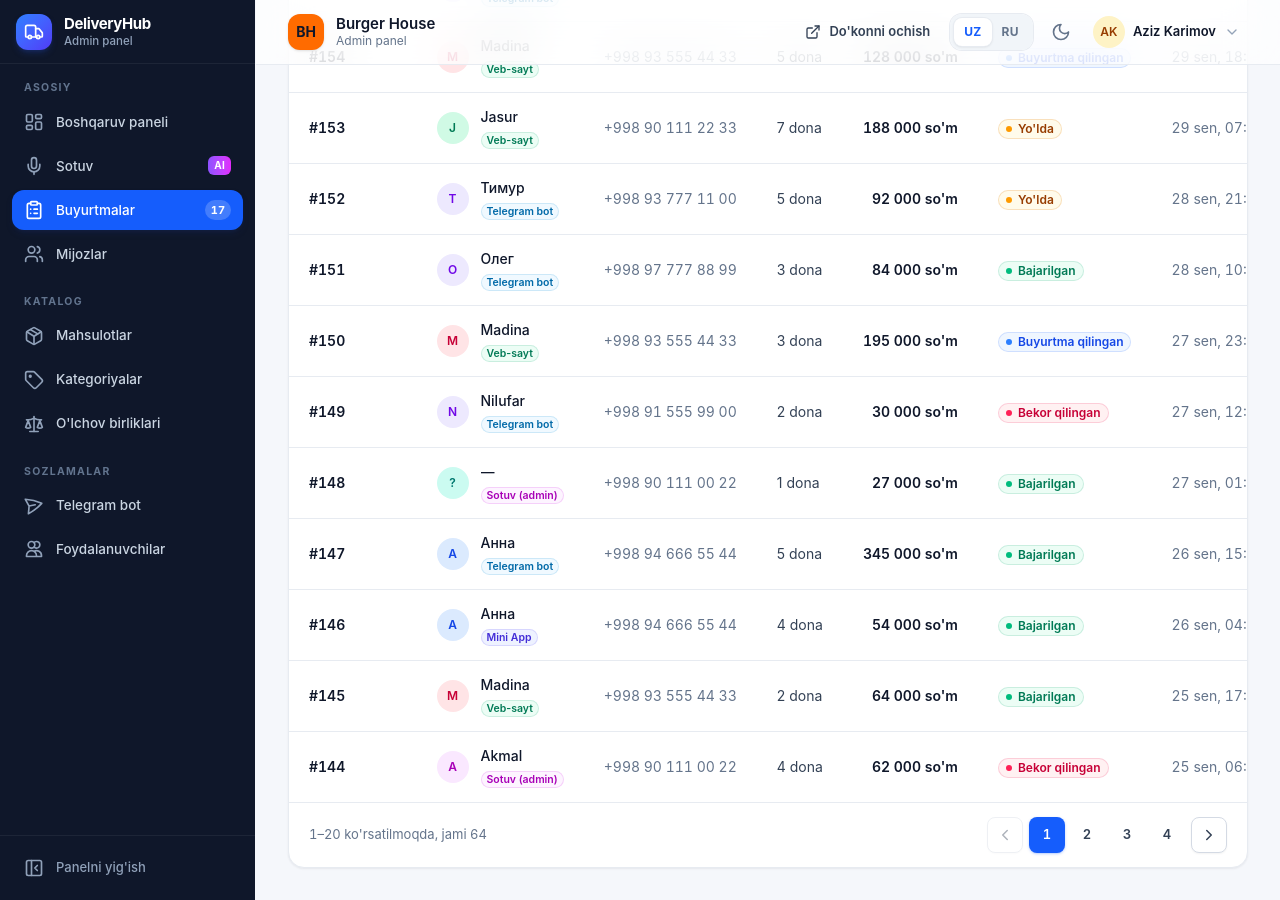
orders list › lists the newest orders with source badges and paginates
(page scrolled)
Expected: the text "1–20 ko'rsatilmoqda, jami 64" is shown, [309,825,487,845]
Step 1. Click the button named "Keyingi" → (1209, 835), box [1191,817,1227,853]
(page scrolled)
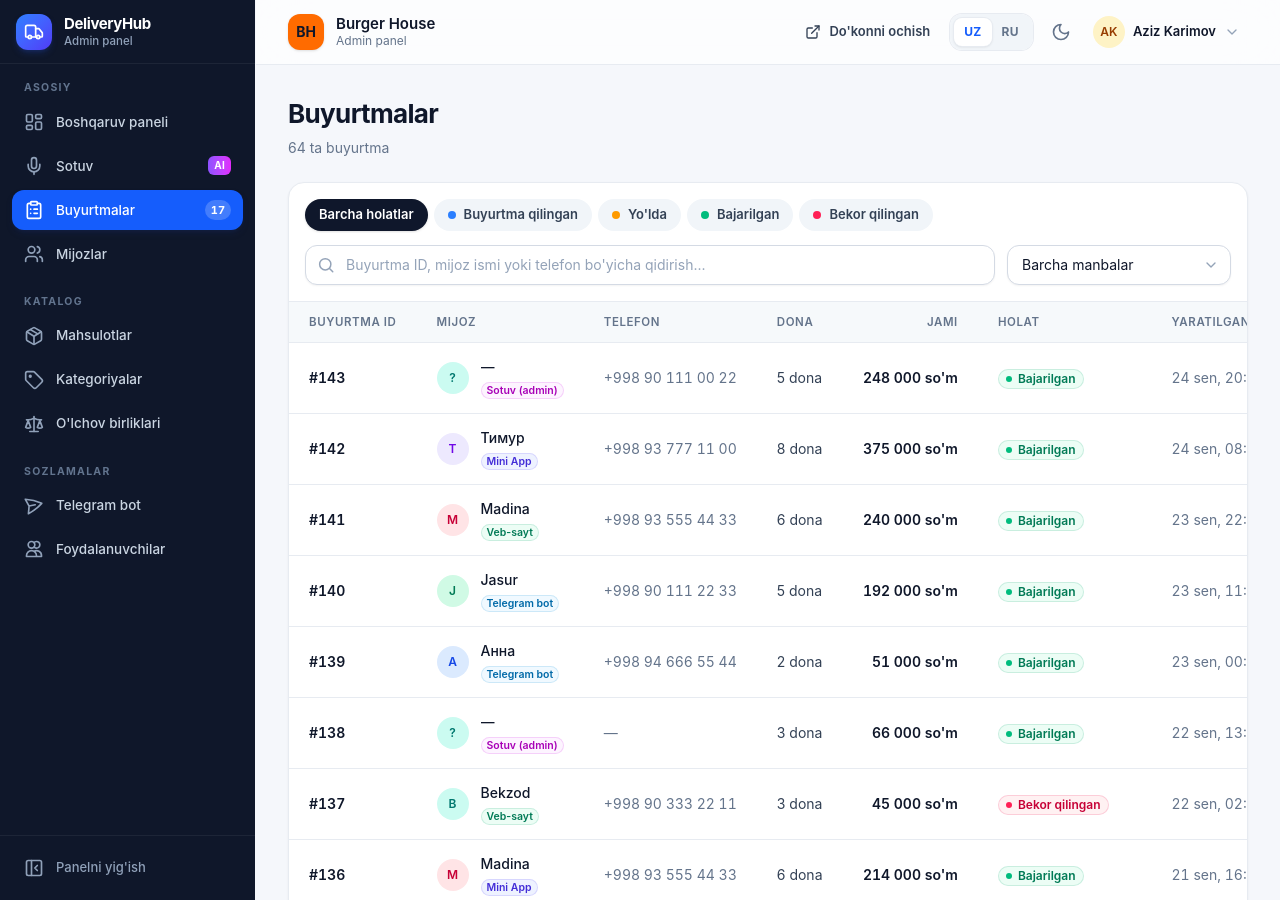
Expected: the link "#143" is shown, [309,369,345,386]
